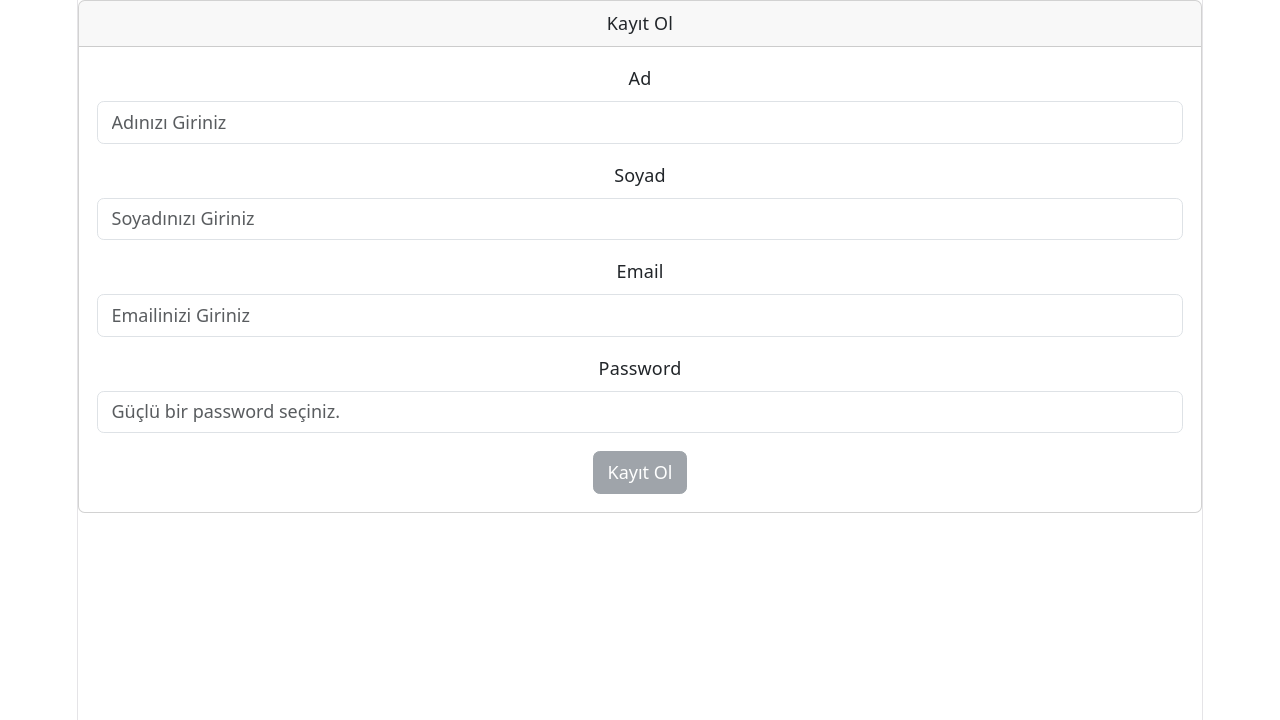
Test: Register Page › Error Messages › Name input throws errors for 2 chars
Type "em" into the field with test id "ad-input" at [640, 123], box [97, 101, 1183, 144]
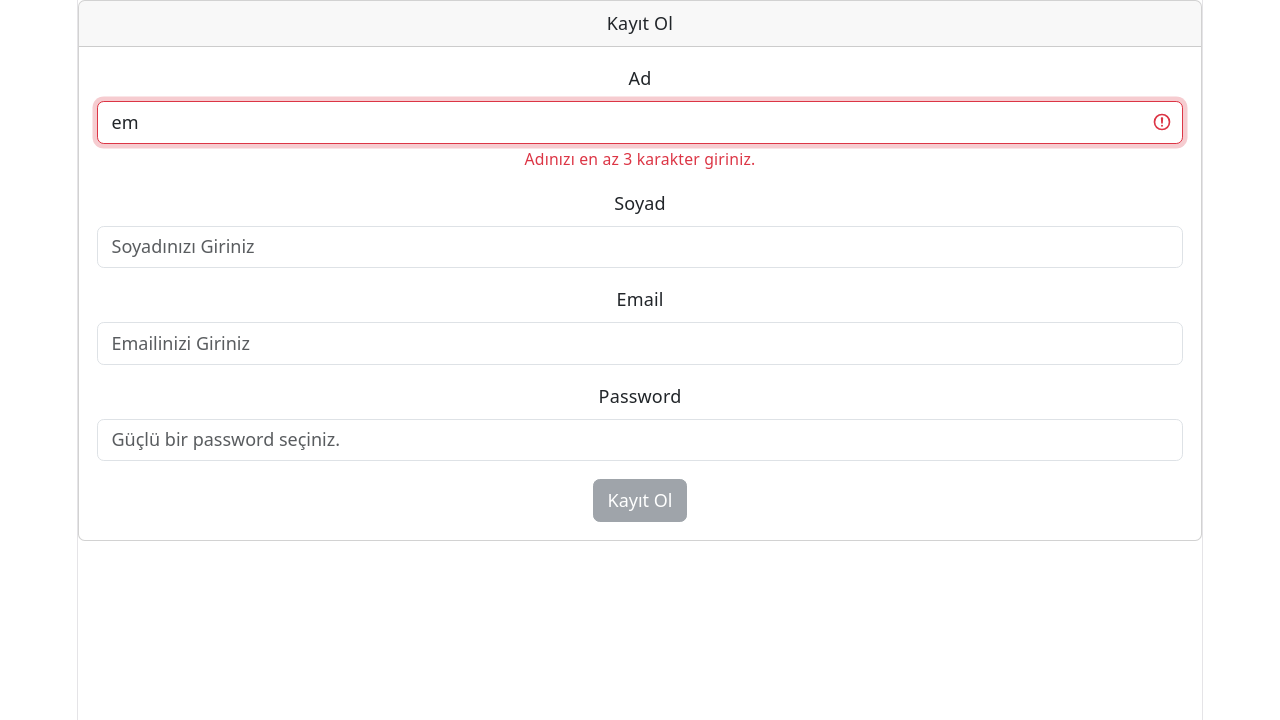
Result: the text "Adınızı en az 3 karakter giriniz." is shown at [525, 148, 756, 170]
